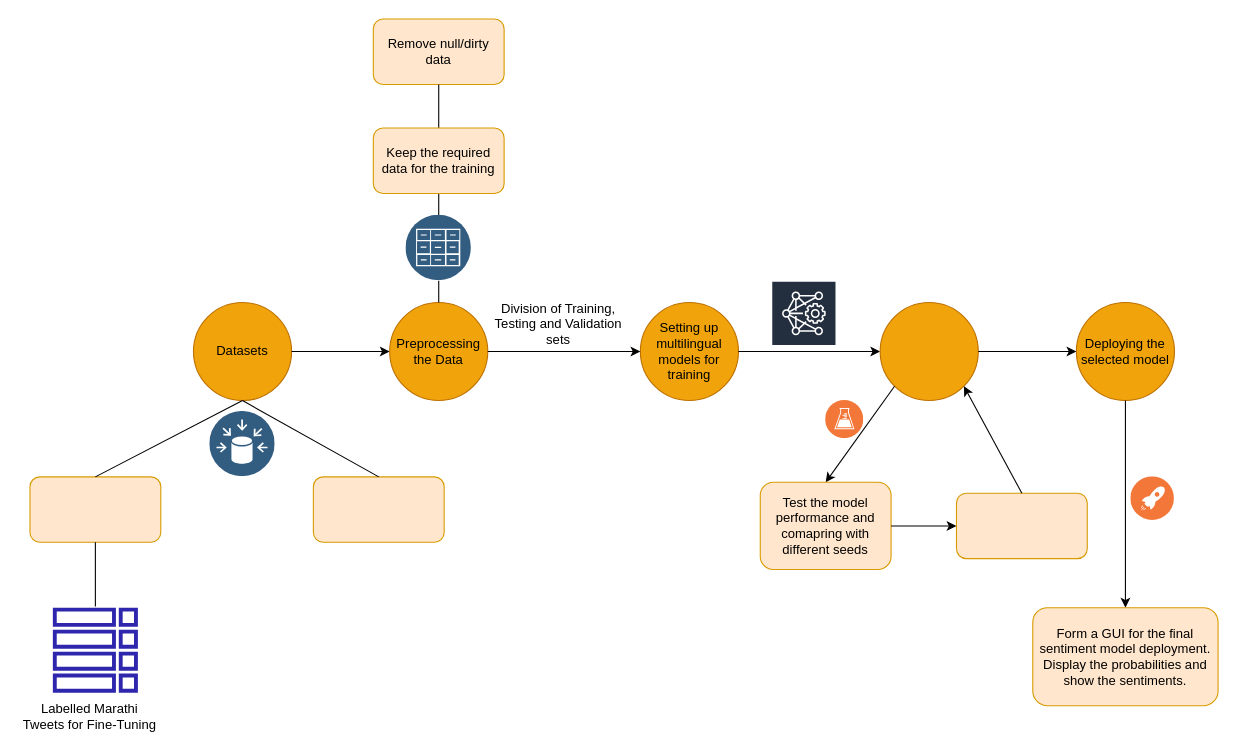
The diagram is 1237 pixels wide and 751 high, and some of its shapes have lost their labels. The centre of each missing label's shape, as x and y in pixels:
Best performing model being selected for the Framework: point 1021,525
LM Data: point 378,509
Training models on multiple seeds: point 928,351
Tweets Dataset: point 95,509
